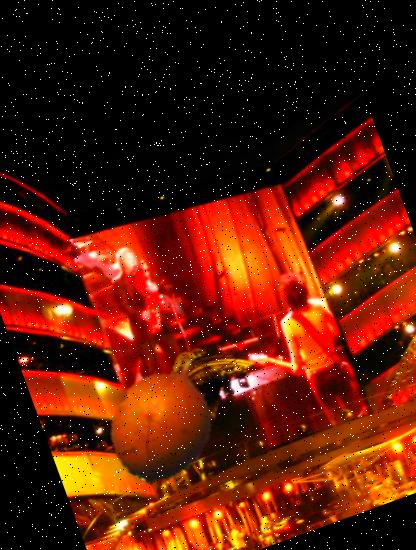Granadilla: (81, 330, 254, 504)
